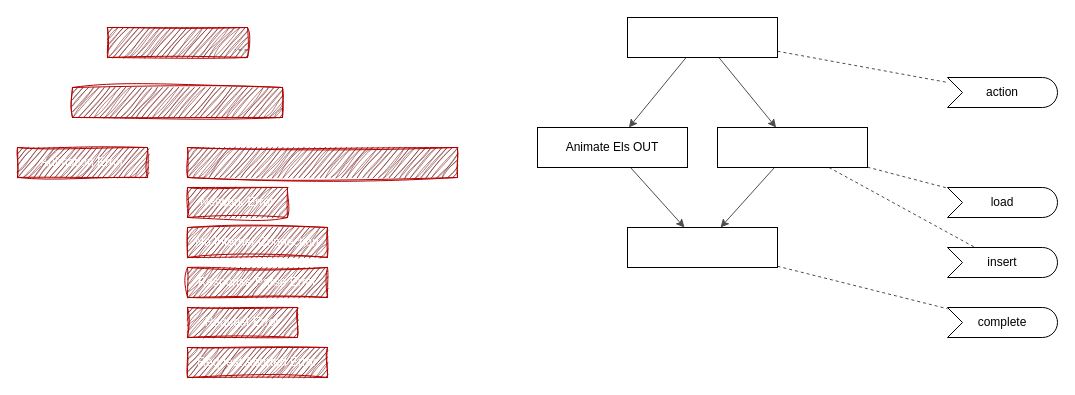
Image size: 1075x395. Some labels were removed from this diagram. Here are the shapes that lost their labels. From the top down, the box of each, then its label:
(106, 26, 248, 58): Href Not Found Error
(626, 16, 778, 58): Action Link Click
(72, 86, 282, 118): Content Element Not Found Error
(186, 146, 458, 178): Loading Content Element Not Found Error
(716, 126, 868, 168): Load Content
(626, 226, 778, 268): Animate Els IN
